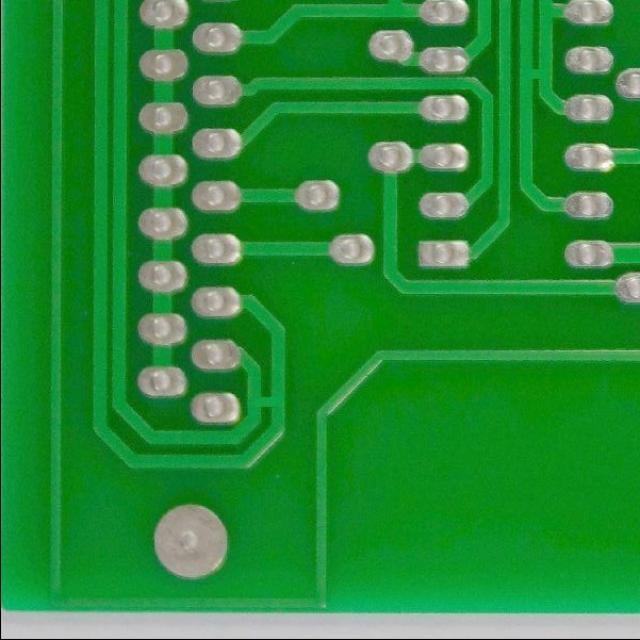Short_Circuit: (241, 383, 293, 418), (512, 58, 559, 92), (377, 0, 413, 21)
